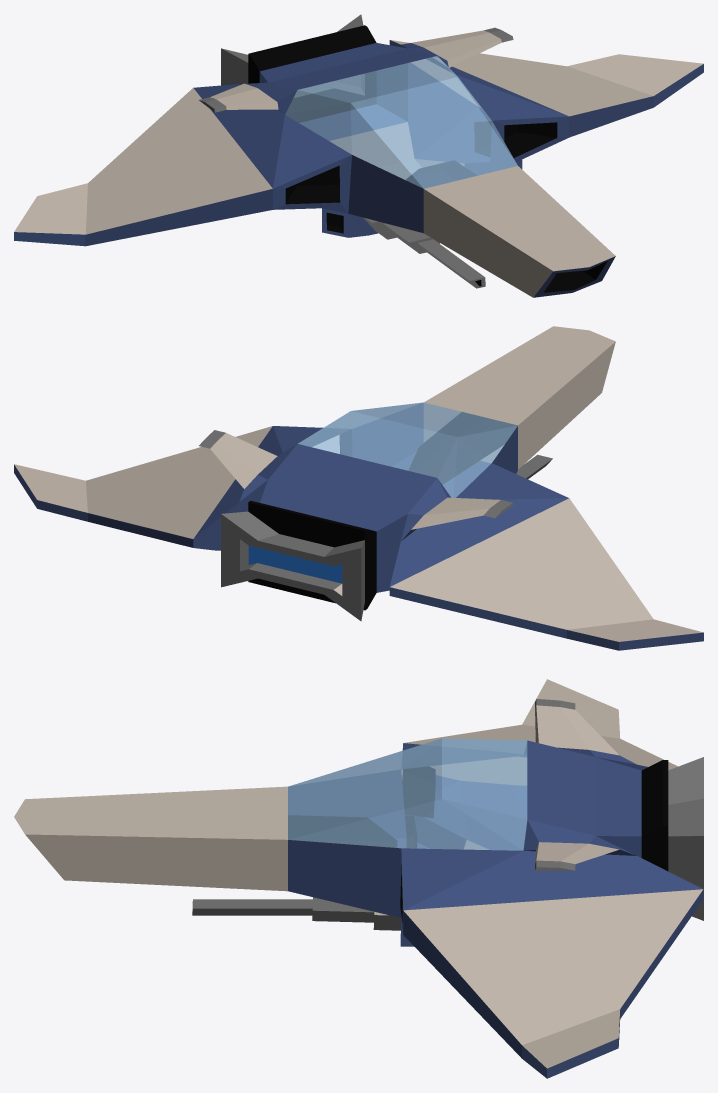
The model's file is SPACESHIPAGAIN.glb.
The picture shows the model from 3 angles, top to bottom: view 1: azimuth 30°, elevation 25°; view 2: azimuth 150°, elevation 25°; view 3: azimuth 270°, elevation 25°; orthographic projection. The views are drawn at different scales.
Visible parts, largest first — view 1: Cube; view 2: Cube; view 3: Cube.
Part boxes in pixels (x1,y1,x2,y2): Cube: (14, 14, 703, 297); Cube: (14, 326, 703, 650); Cube: (14, 679, 703, 1078).
Bounding box in the file's own units: 18.23 × 3.2 × 13.65.
